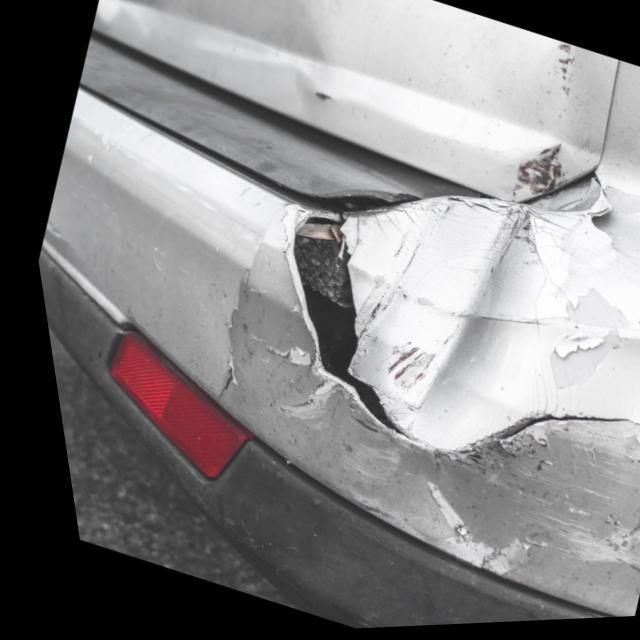crack: (285, 214, 633, 457)
dent: (394, 218, 552, 451)
scratch: (253, 222, 640, 621)
